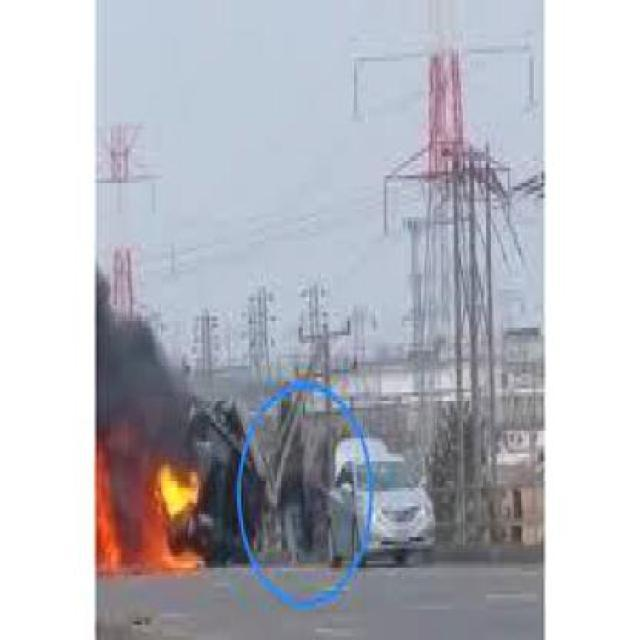Fire: (102, 415, 202, 591)
Smoke: (98, 232, 197, 438)
